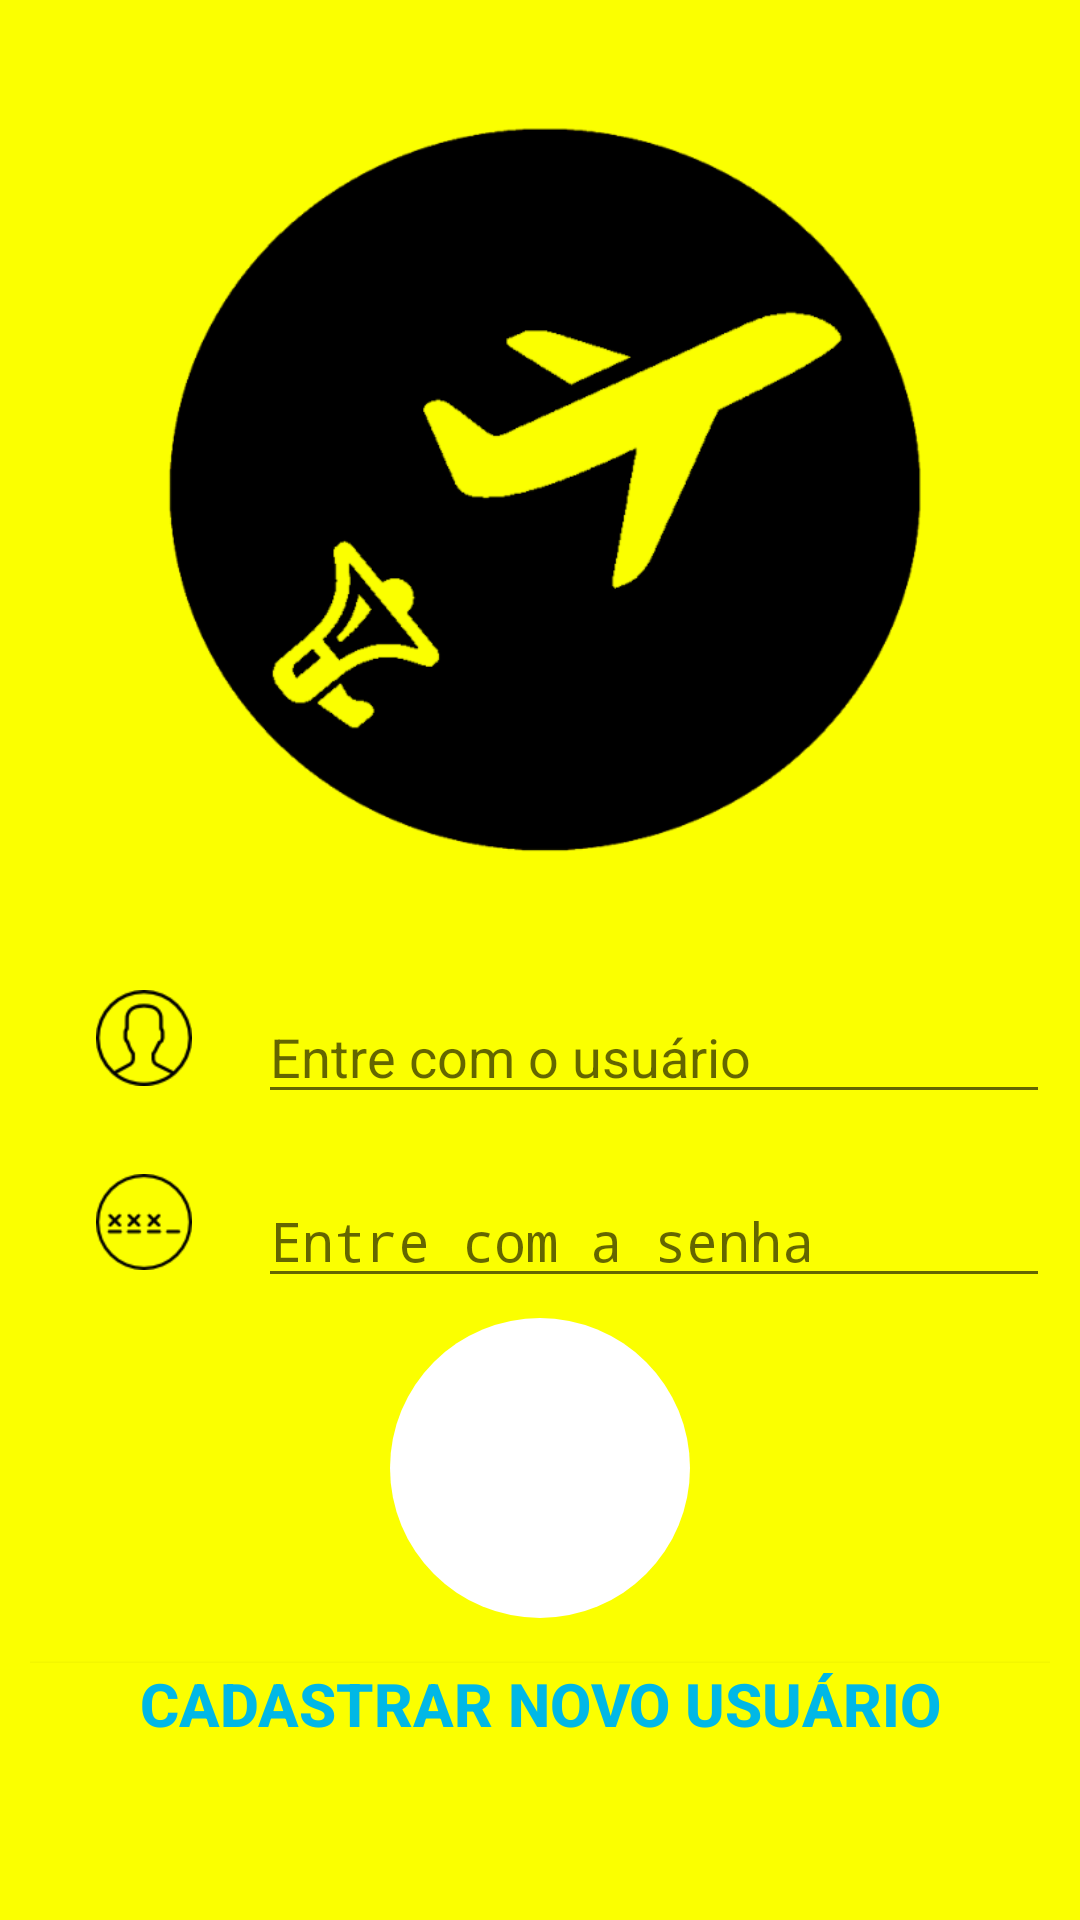

Screen size 1080 × 1920. Icon name, then its center in pixels as point (x, y):
password: point (144, 1222)
user: point (144, 1038)
